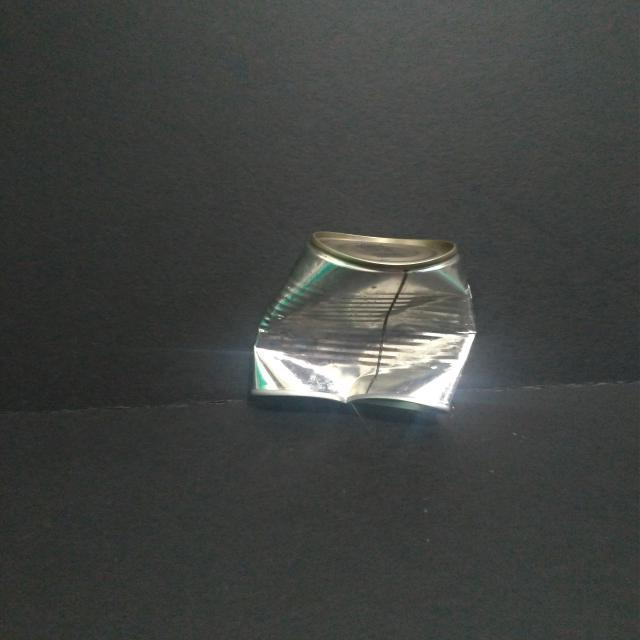metal: (246, 230, 482, 422)
